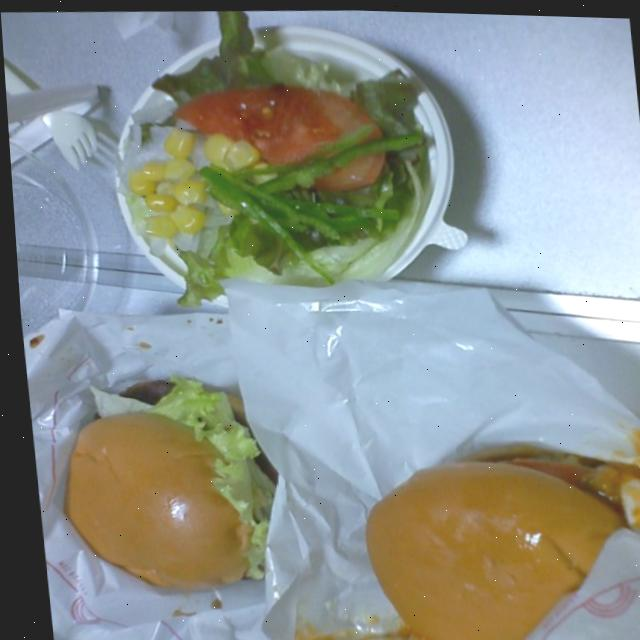汉堡快餐: (22, 352, 295, 617), (333, 424, 640, 640)
蔬菜料理: (96, 16, 438, 309)
